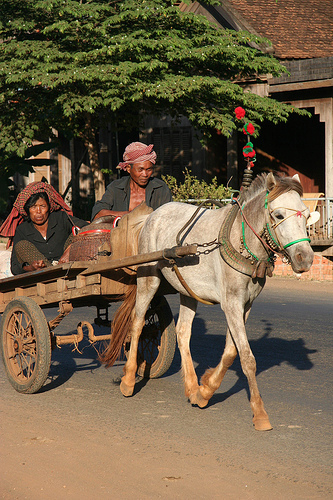horse: (101, 168, 315, 434)
